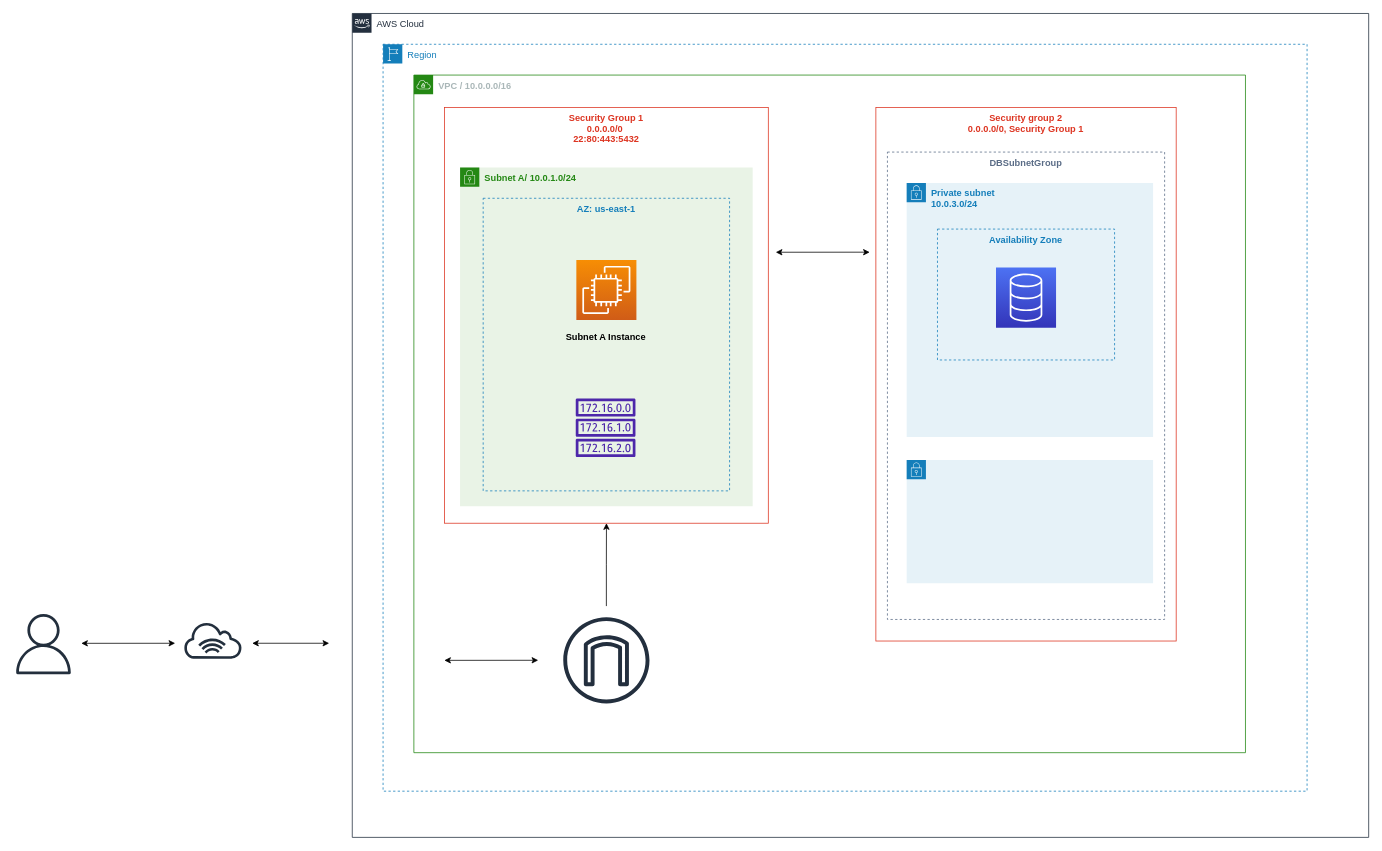
Image size: 1382x851. Some labels were removed from this diagram. Here are the shapes that lost their labels. From the top down, the centre of each, then its label:
At point (1029, 521): "Private subnet 10.0.4.0/24".
At point (606, 660): "Internet gateway".
